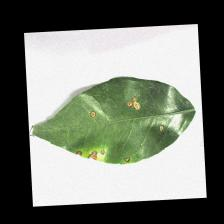canker: (58, 110, 141, 166), (90, 94, 168, 141)
